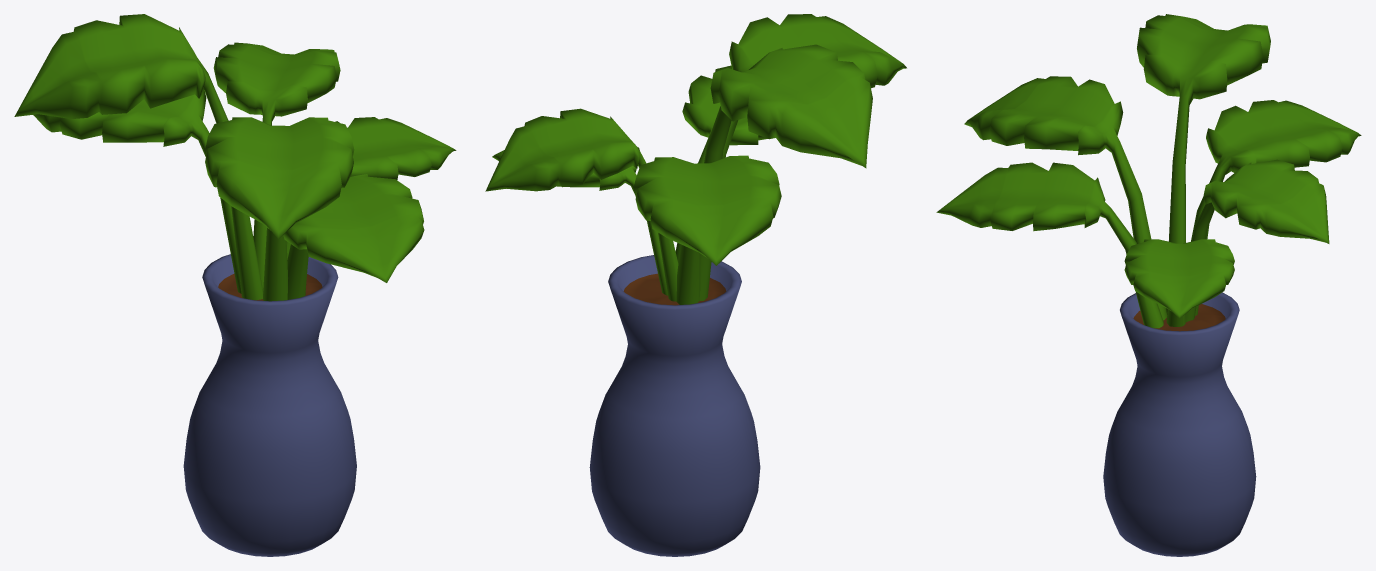
The model's file is vasePot.fbx.
The picture shows the model from 3 angles, left to right: view 1: azimuth 30°, elevation 25°; view 2: azimuth 150°, elevation 25°; view 3: azimuth 270°, elevation 25°; orthographic projection. The views are drawn at different scales.
Visible parts, largest first — view 1: Vase Pot; view 2: Vase Pot; view 3: Vase Pot.
Part boxes in pixels (left/top/right/bottom): Vase Pot: left=14, top=14, right=456, bottom=556; Vase Pot: left=485, top=14, right=906, bottom=556; Vase Pot: left=936, top=14, right=1361, bottom=556.
Size of the model in its own units: 45.11 by 45.81 by 53.48.
